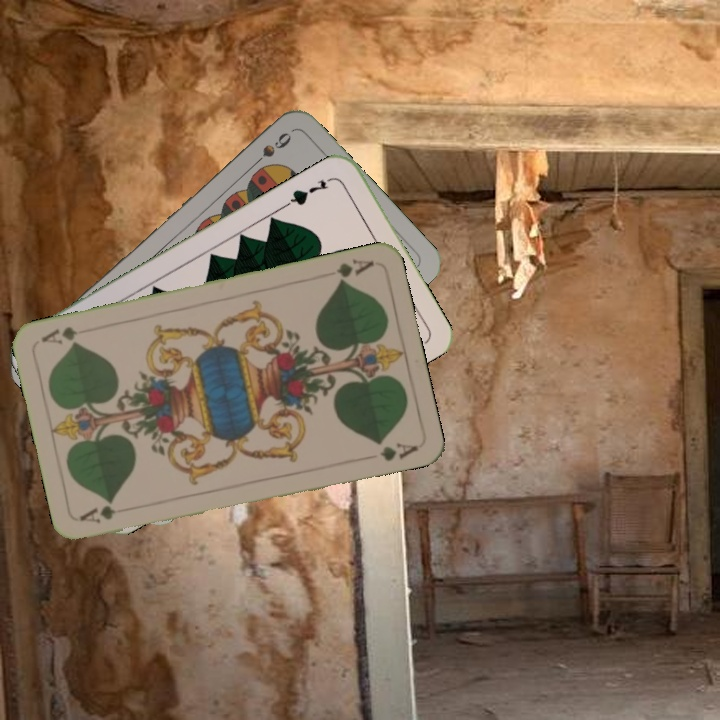G7: (282, 173, 336, 209)
GA: (76, 501, 135, 527), (332, 255, 377, 286)
S9: (246, 128, 295, 172)
